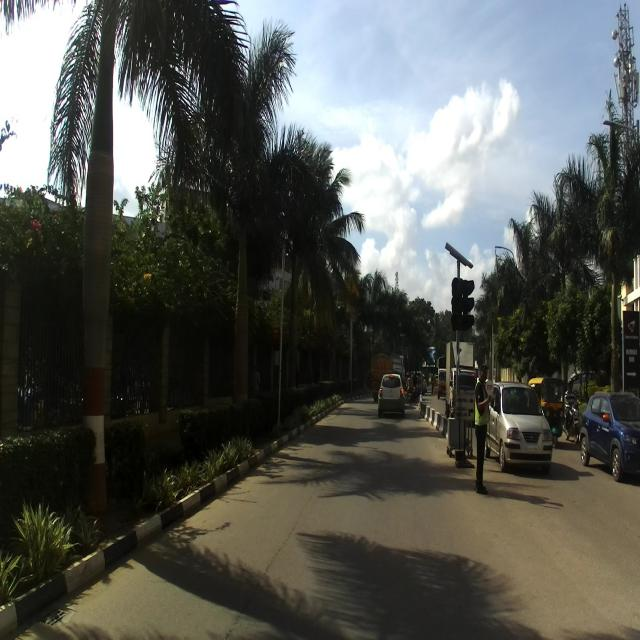Car_Hyundai: (483, 379, 553, 475)
Car_Renault: (577, 389, 640, 482)
